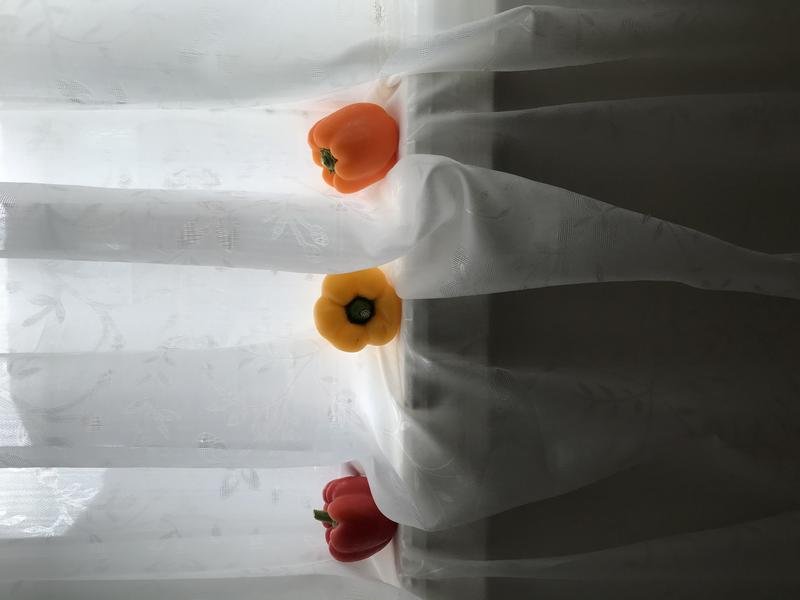orange_pepper: (301, 95, 404, 198)
red_pepper: (308, 468, 405, 569)
yellow_pepper: (304, 254, 406, 357)
